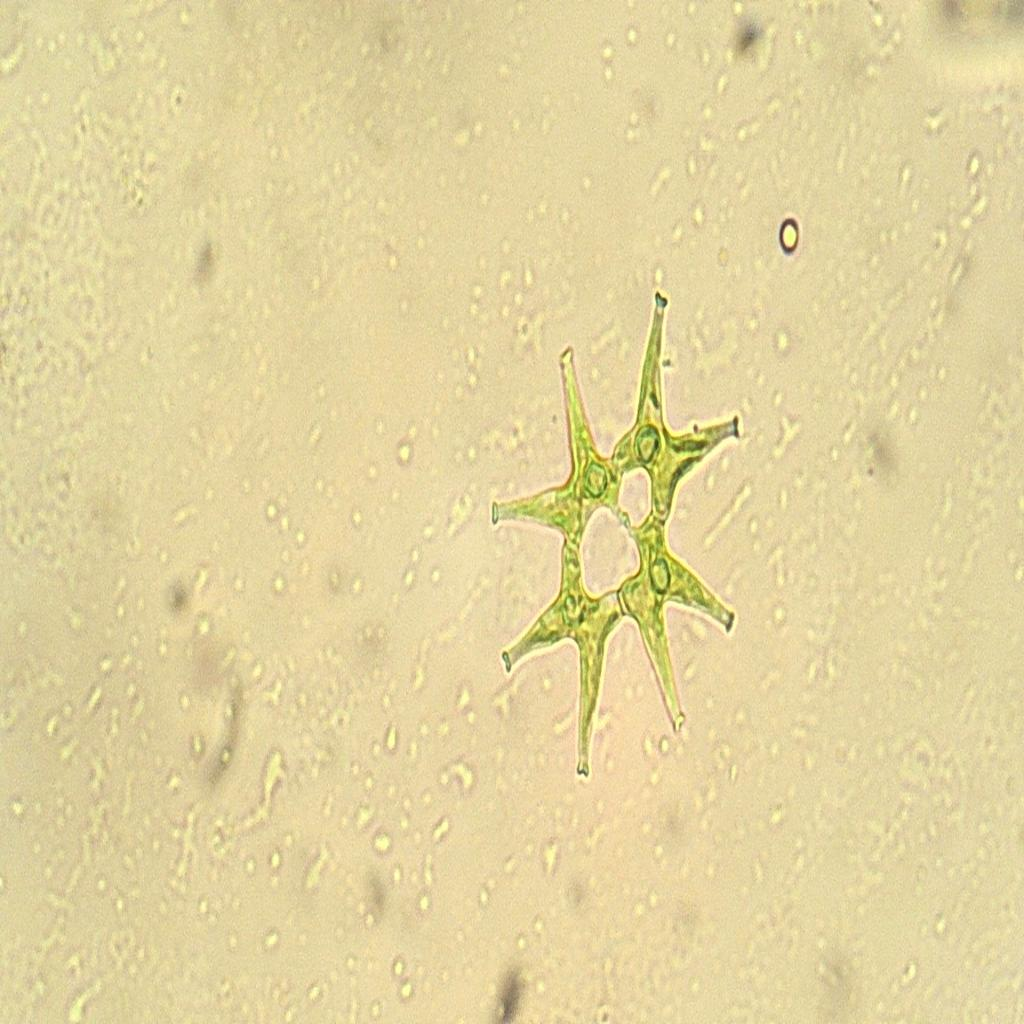Pediastrum_75FO: (477, 260, 745, 794)
